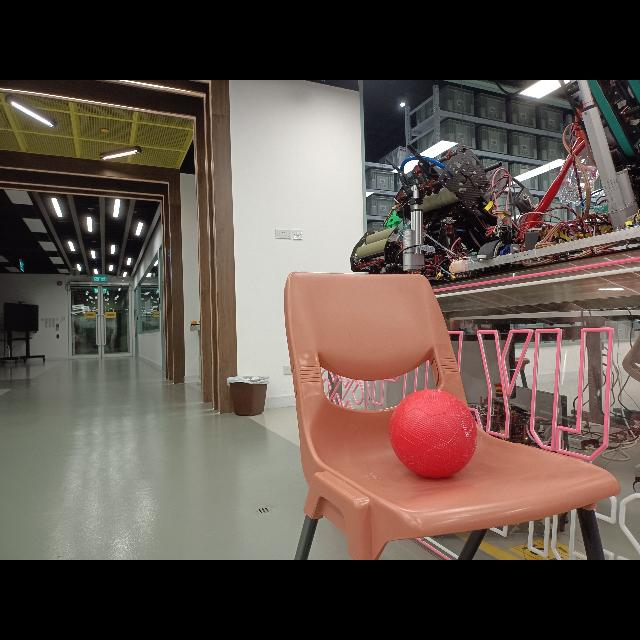R: (388, 388, 478, 478)
